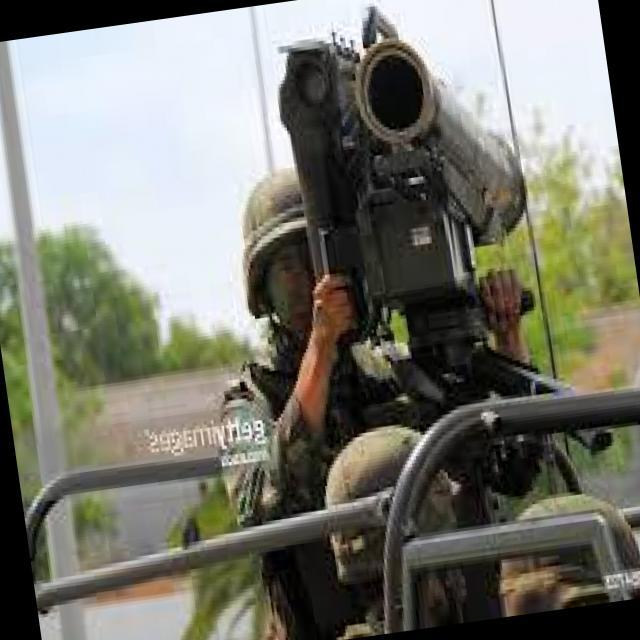rocket: (351, 16, 529, 250)
